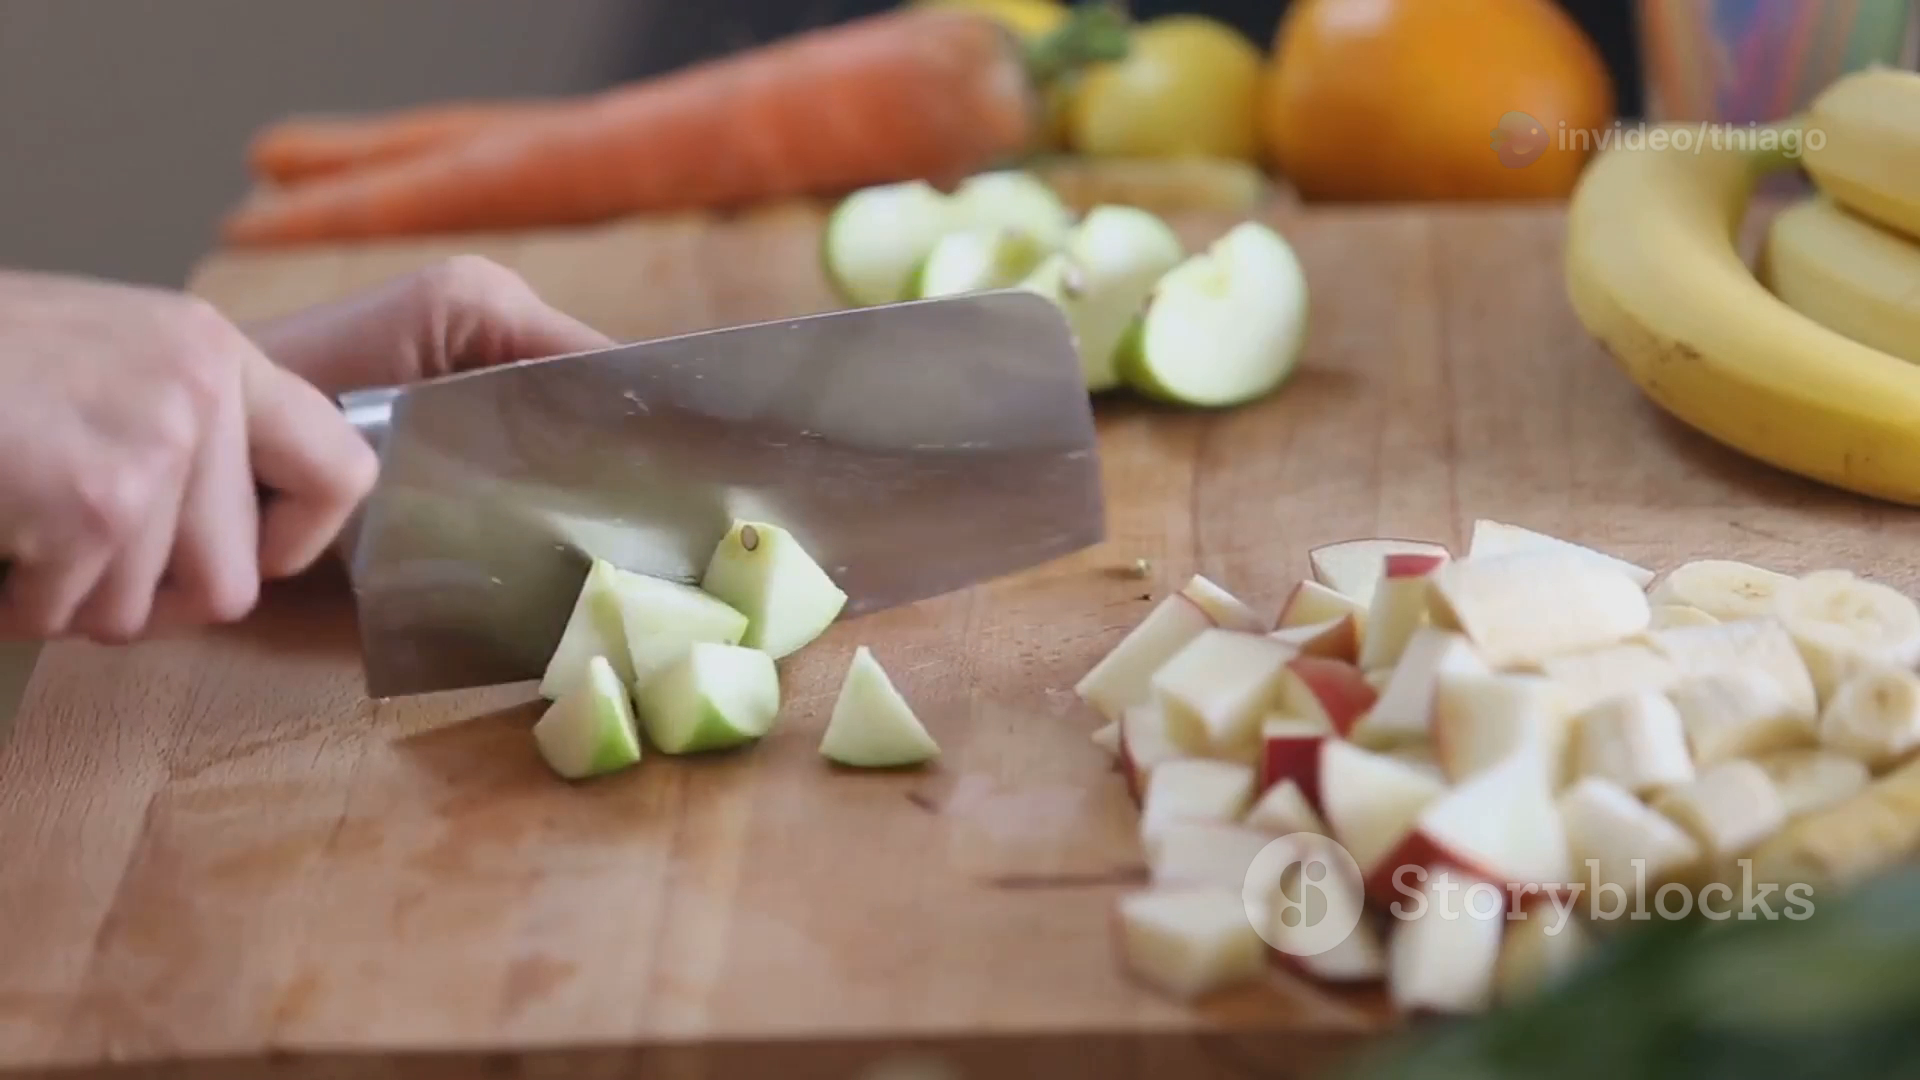cortante: (319, 287, 1104, 698)
